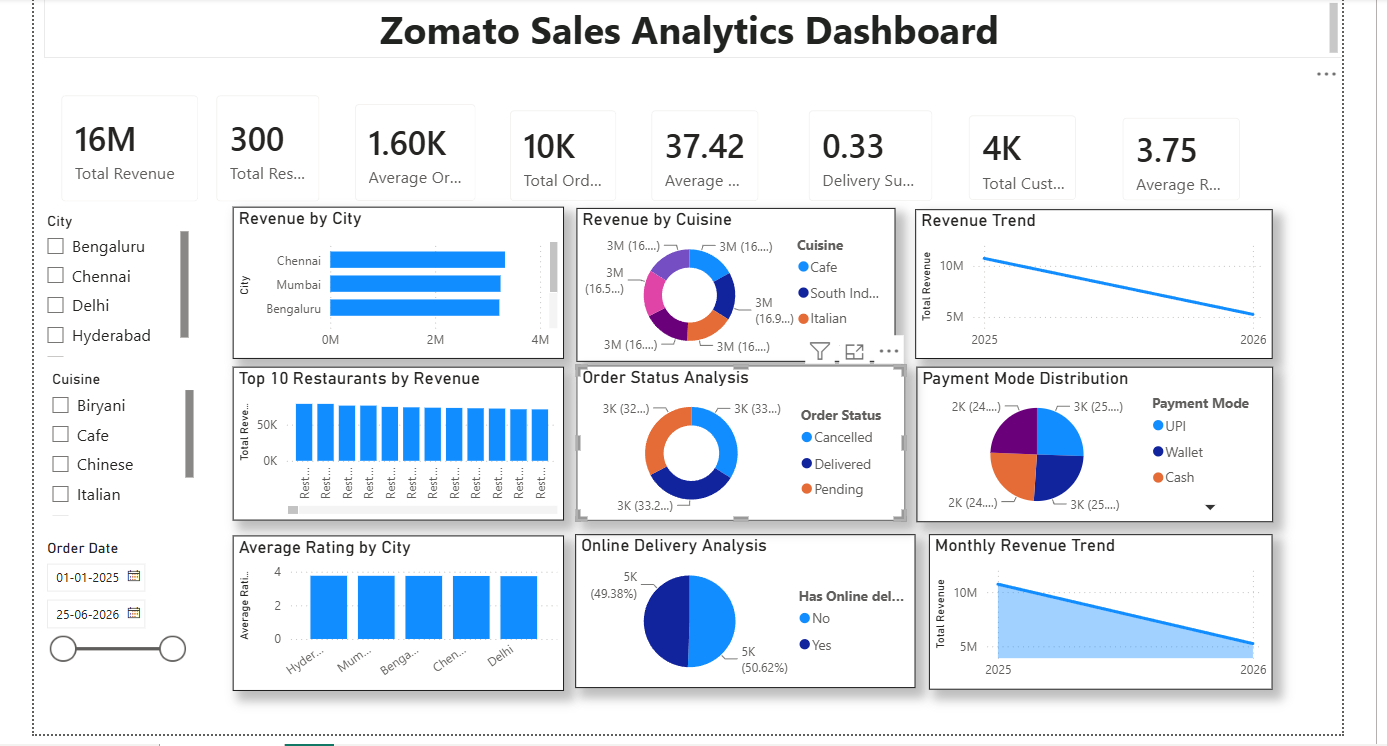

Layout of this report page (visuals, bound fields, positions):
{"tool":"powerbi","page":{"name":"Dashboard","canvas":[1280,720],"ordinal":0},"visuals":[{"type":"textbox","box":[9.6,0,1270.7,59],"z":0},{"type":"cardVisual","fields":{"Data":["Orders.Total Revenue"]},"box":[10.3,77.8,168.8,138],"z":1000},{"type":"cardVisual","fields":{"Data":["Orders.Total Orders"]},"box":[449.3,92.5,138,123.3],"z":1001},{"type":"cardVisual","fields":{"Data":["Orders.Total Customers"]},"box":[897.1,98.4,139.5,117.5],"z":1002},{"type":"cardVisual","fields":{"Data":["Orders.Total Restaurants"]},"box":[161.5,77.8,135.1,138],"z":1003},{"type":"cardVisual","fields":{"Data":["Orders.Average Rating"]},"box":[1048.3,99.8,149.8,116],"z":1004},{"type":"cardVisual","fields":{"Data":["Orders.Average Order Value"]},"box":[296.6,86.6,152.7,129.2],"z":1005},{"type":"cardVisual","fields":{"Data":["Orders.Average Delivery Time"]},"box":[587.3,92.5,139.5,123.3],"z":1006},{"type":"cardVisual","fields":{"Data":["Orders.Delivery Success Rate"]},"box":[741.5,92.5,155.6,123.3],"z":1007},{"type":"lineChart","title":"Revenue Trend","fields":{"Category":["Orders.Order Date.Variation.Date Hierarchy.Year","Orders.Order Date.Variation.Date Hierarchy.Quarter","Orders.Order Date.Variation.Date Hierarchy.Month","Orders.Order Date.Variation.Date Hierarchy.Day"],"Y":["Orders.Total Revenue"]},"box":[862.1,206.7,349.7,146.7],"z":1008},{"type":"clusteredBarChart","title":"Revenue by City","fields":{"Category":["Orders.City"],"Y":["Orders.Total Revenue"]},"box":[194.4,204.2,324.1,149.2],"z":1009},{"type":"clusteredColumnChart","title":"Top 10 Restaurants by Revenue","fields":{"Y":["Orders.Total Revenue"],"Category":["Orders.Restaurant Name"]},"box":[194.4,360.7,324.1,150.4],"z":1010},{"type":"donutChart","title":"Revenue by Cuisine","fields":{"Y":["Orders.Total Revenue"],"Category":["Orders.Cuisine"]},"box":[530.7,205.4,311.8,150.4],"z":1011},{"type":"pieChart","title":"Payment Mode Distribution","fields":{"Category":["Orders.Payment Mode"],"Y":["Orders.Total Orders"]},"box":[863.3,360.7,348.5,151.6],"z":1012},{"type":"donutChart","title":"Order Status Analysis","fields":{"Category":["Orders.Order Status"],"Y":["Orders.Total Orders"]},"box":[530.7,359.5,321.6,151.6],"z":1013},{"type":"clusteredColumnChart","title":"Average Rating by City","fields":{"Category":["Orders.City"],"Y":["Orders.Average Rating"]},"box":[194.4,525.8,324.1,151.6],"z":1014},{"type":"pieChart","title":"Online Delivery Analysis","fields":{"Category":["Orders.Has Online delivery"],"Y":["Orders.Total Orders"]},"box":[529.5,524.6,332.6,150.4],"z":1017},{"type":"areaChart","title":"Monthly Revenue Trend","fields":{"Category":["Orders.Order Date.Variation.Date Hierarchy.Year","Orders.Order Date.Variation.Date Hierarchy.Quarter","Orders.Order Date.Variation.Date Hierarchy.Month","Orders.Order Date.Variation.Date Hierarchy.Day"],"Y":["Orders.Total Revenue"]},"box":[875.5,524.6,336.3,151.6],"z":1020},{"type":"slicer","fields":{"Values":["Orders.City"]},"box":[0,204.2,156.5,151.6],"z":1021},{"type":"slicer","fields":{"Values":["Orders.Cuisine"]},"box":[4.9,359.5,156.5,151.6],"z":1022},{"type":"slicer","fields":{"Values":["Orders.Order Date"]},"box":[0,524.6,156.5,151.6],"z":1023}]}

Visuals, with their boxes in screenshot pixels (x1, y1, x2, y2):
textbox: select_region(39, 0, 1340, 57)
cardVisual - Orders.Total Revenue: select_region(39, 76, 212, 217)
cardVisual - Orders.Total Orders: select_region(489, 91, 630, 217)
cardVisual - Orders.Total Customers: select_region(948, 97, 1090, 217)
cardVisual - Orders.Total Restaurants: select_region(194, 76, 333, 217)
cardVisual - Orders.Average Rating: select_region(1102, 99, 1256, 217)
cardVisual - Orders.Average Order Value: select_region(333, 85, 489, 217)
cardVisual - Orders.Average Delivery Time: select_region(630, 91, 773, 217)
cardVisual - Orders.Delivery Success Rate: select_region(788, 91, 948, 217)
"Revenue Trend" lineChart: select_region(912, 208, 1270, 358)
"Revenue by City" clusteredBarChart: select_region(228, 206, 560, 358)
"Top 10 Restaurants by Revenue" clusteredColumnChart: select_region(228, 366, 560, 520)
"Revenue by Cuisine" donutChart: select_region(572, 207, 892, 361)
"Payment Mode Distribution" pieChart: select_region(913, 366, 1270, 521)
"Order Status Analysis" donutChart: select_region(572, 365, 902, 520)
"Average Rating by City" clusteredColumnChart: select_region(228, 535, 560, 690)
"Online Delivery Analysis" pieChart: select_region(571, 534, 912, 688)
"Monthly Revenue Trend" areaChart: select_region(925, 534, 1270, 689)
slicer - Orders.City: select_region(29, 206, 189, 361)
slicer - Orders.Cuisine: select_region(34, 365, 194, 520)
slicer - Orders.Order Date: select_region(29, 534, 189, 689)
